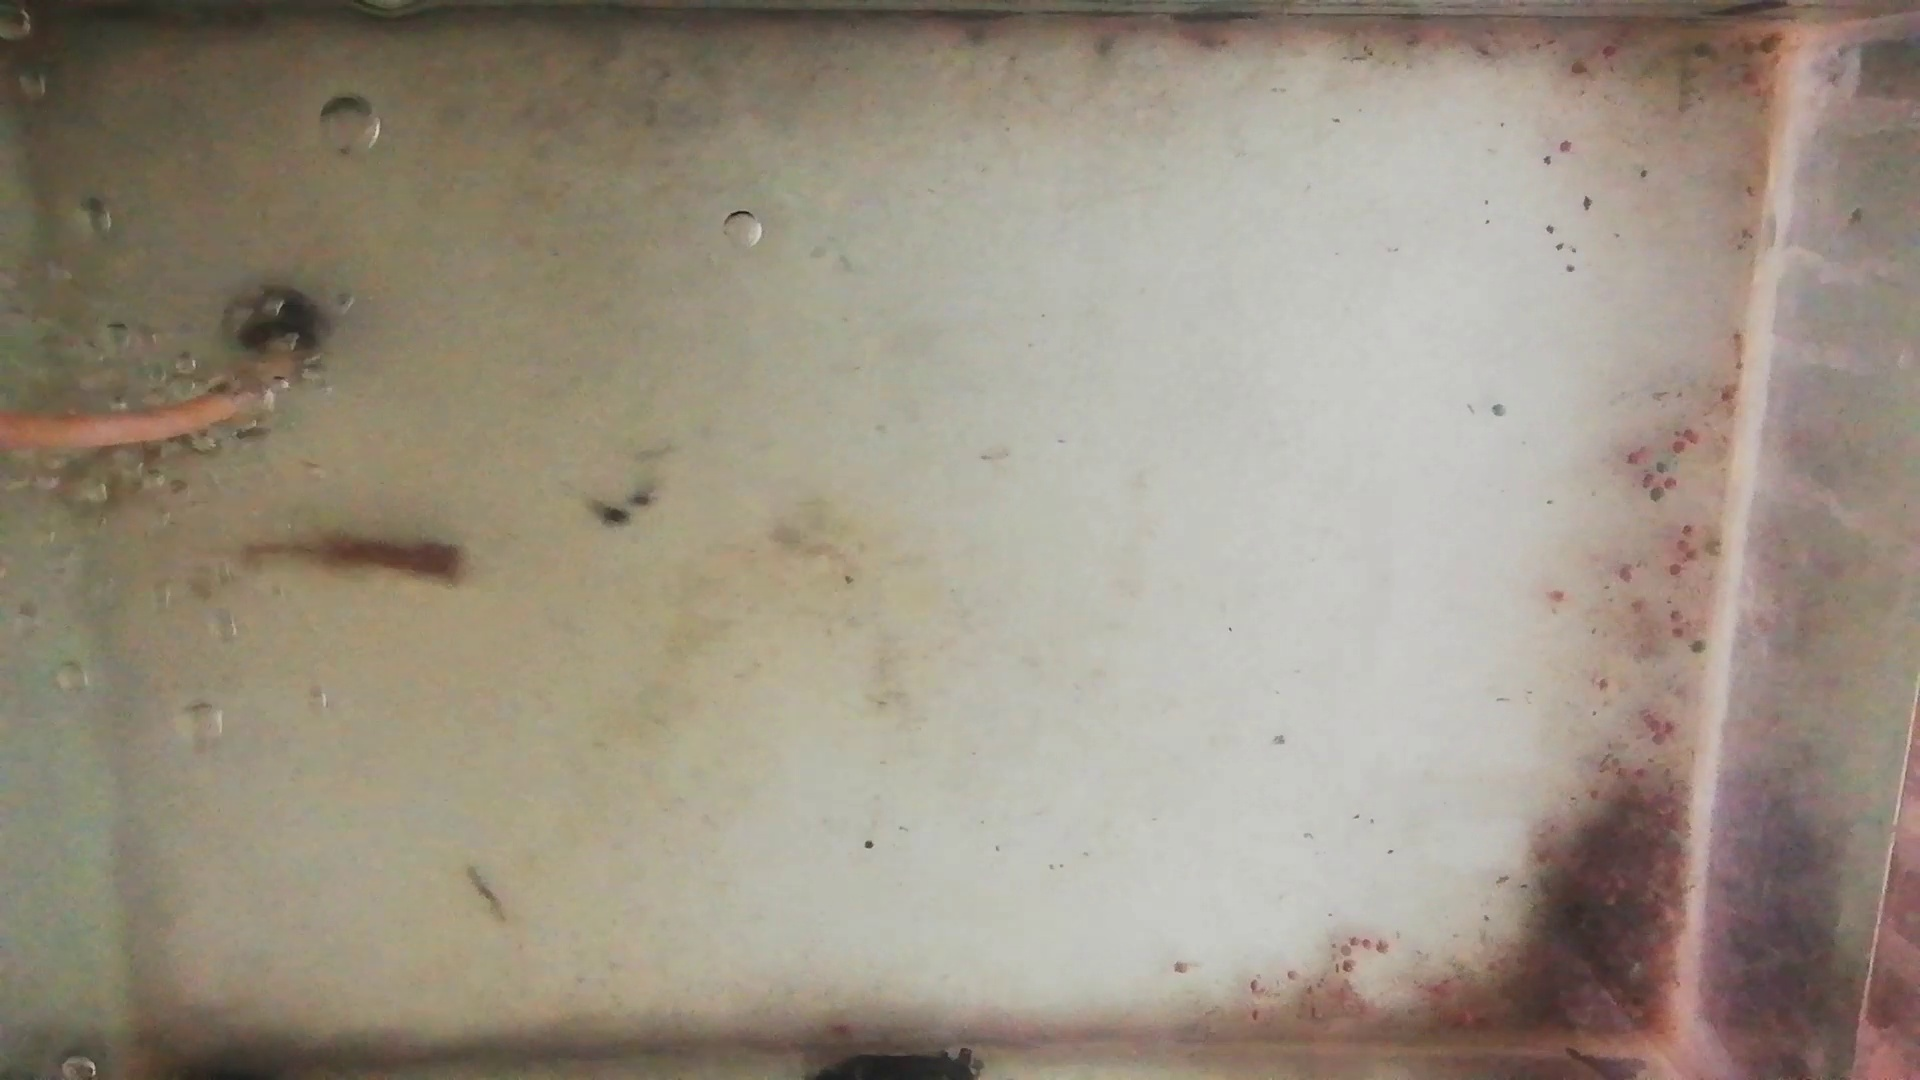fish: (233, 535, 465, 588), (54, 439, 214, 498)
